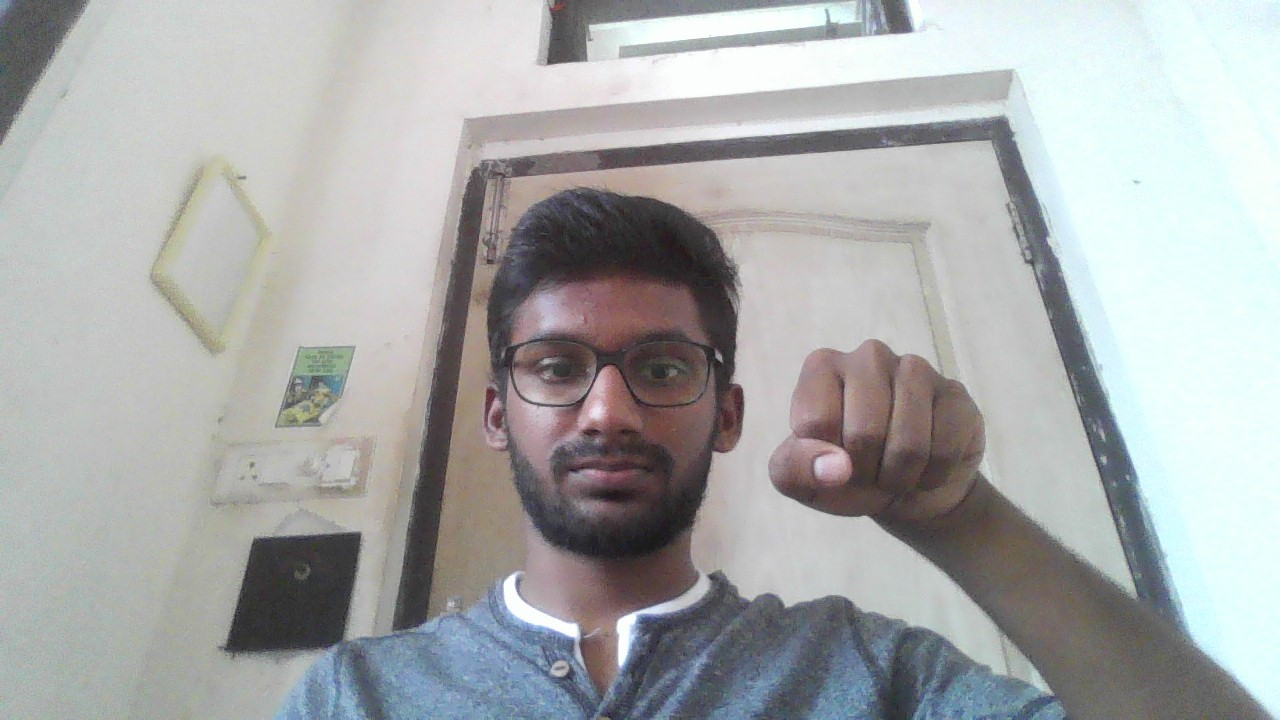No: (768, 332, 990, 529)
